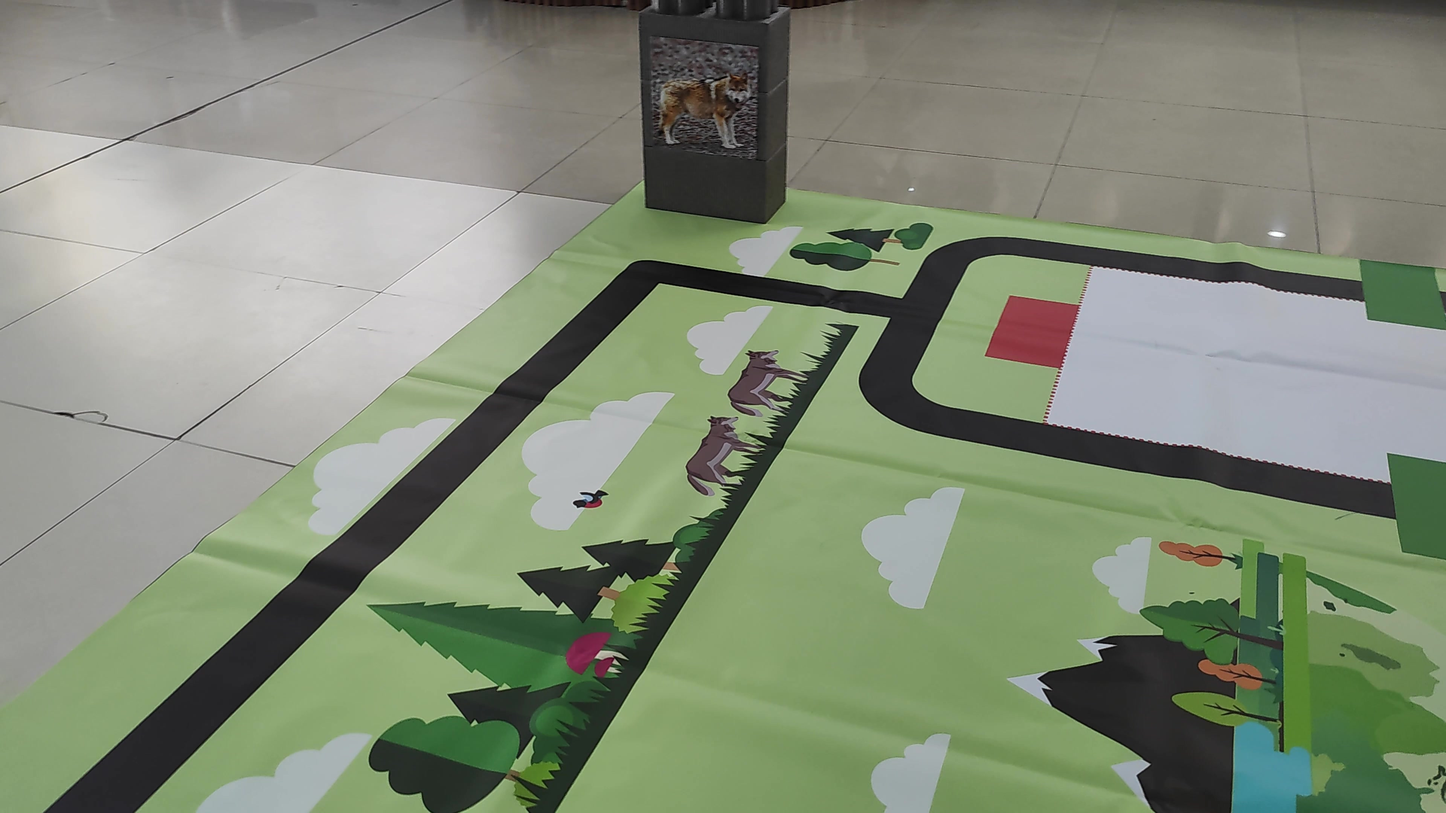wolf: (650, 37, 756, 149)
